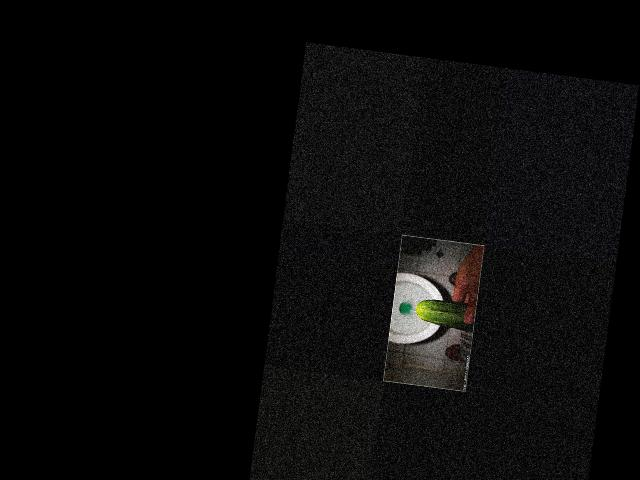cucumber: (414, 297, 477, 332)
